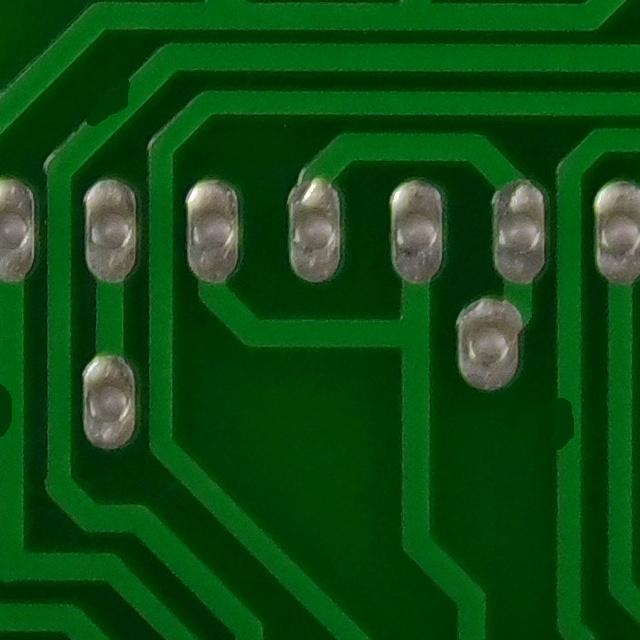mouse_bite: (74, 67, 140, 136), (546, 388, 592, 464), (0, 378, 36, 454)
